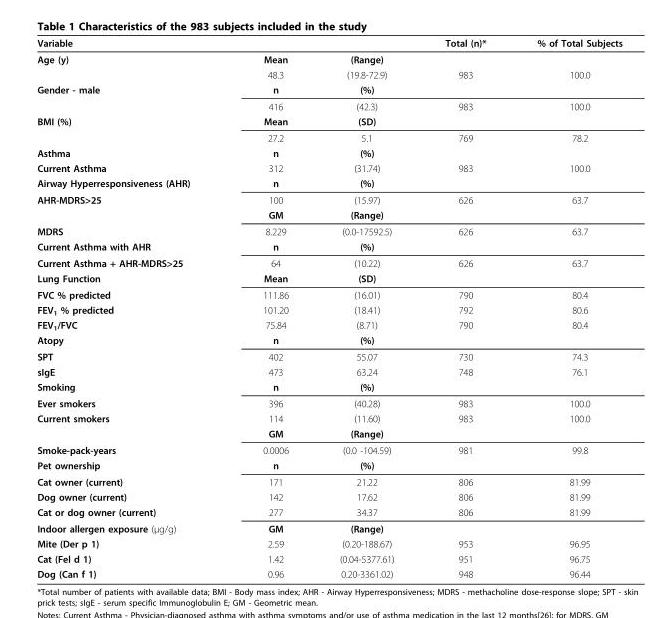table: (36, 36, 621, 579)
table column: (36, 36, 225, 579), (510, 36, 621, 579), (313, 36, 419, 579), (419, 36, 510, 579), (225, 36, 313, 579)
table column header: (36, 36, 621, 50)
table row: (36, 50, 621, 66), (36, 81, 621, 97), (36, 97, 621, 113), (36, 113, 621, 129), (36, 129, 621, 145), (36, 175, 621, 191), (36, 206, 621, 222), (36, 222, 621, 238), (36, 238, 621, 254), (36, 254, 621, 270), (36, 270, 621, 286), (36, 286, 621, 302), (36, 332, 621, 348), (36, 378, 621, 394), (36, 394, 621, 410), (36, 425, 621, 441), (36, 441, 621, 457), (36, 457, 621, 473), (36, 473, 621, 489), (36, 504, 621, 520), (36, 66, 621, 81), (36, 145, 621, 160), (36, 160, 621, 175), (36, 191, 621, 206), (36, 302, 621, 317), (36, 317, 621, 332), (36, 348, 621, 363), (36, 363, 621, 378), (36, 410, 621, 425), (36, 489, 621, 504), (36, 520, 621, 535), (36, 535, 621, 550), (36, 550, 621, 565), (36, 36, 621, 50), (36, 565, 621, 579)
table spanning cell: (36, 81, 225, 113), (36, 113, 225, 145), (36, 50, 225, 81), (36, 191, 225, 222), (36, 410, 225, 441)
